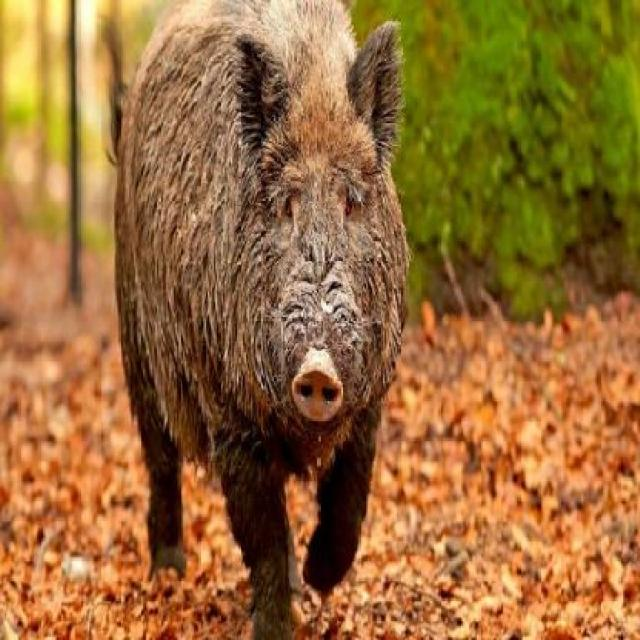wildboar: (111, 0, 412, 640)
